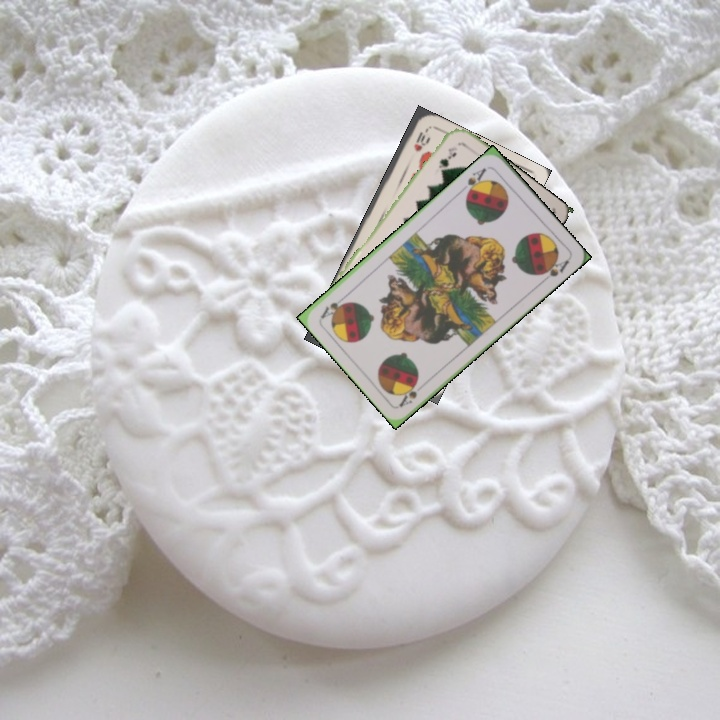G9: (434, 142, 460, 174)
H10: (410, 126, 430, 154)
SA: (462, 164, 489, 198), (395, 377, 421, 410)
